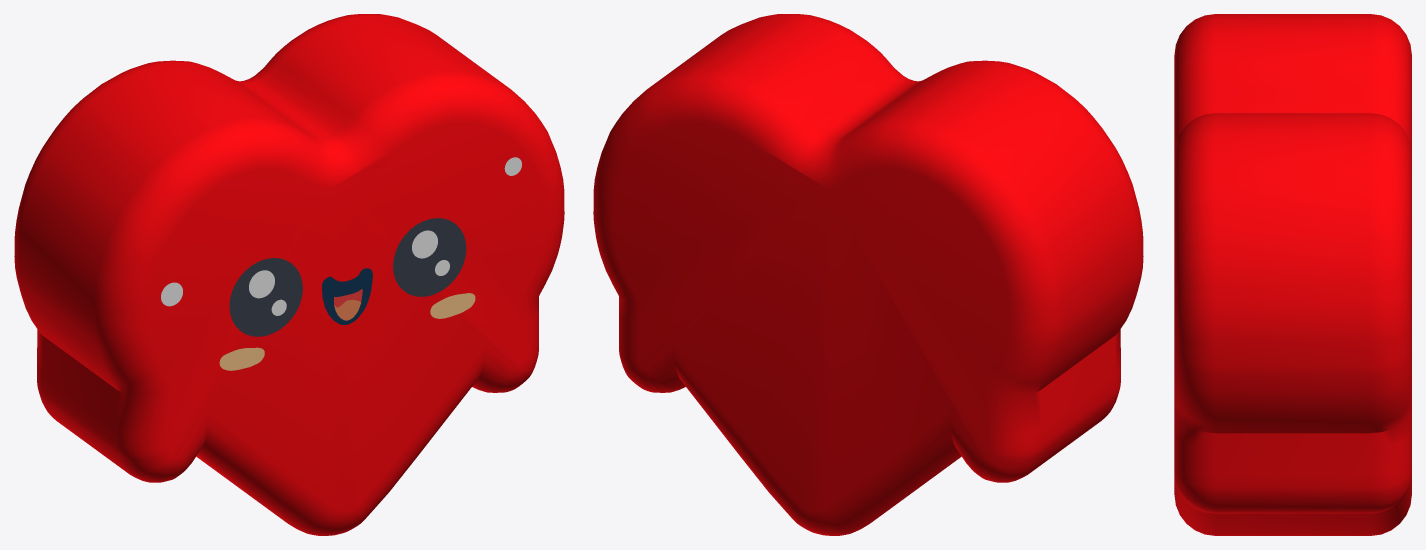
File: Corazon.fbx
3 views of the same model, side by side, from view 1: azimuth 30°, elevation 25°; view 2: azimuth 150°, elevation 25°; view 3: azimuth 270°, elevation 25° (orthographic). The views are drawn at different scales.
Visible parts, largest first — view 1: Circle.001; view 2: Circle.001; view 3: Circle.001.
Boxes of the visible parts, <box> form: Circle.001: <box>14,14,564,535</box>; Circle.001: <box>593,14,1143,535</box>; Circle.001: <box>1174,14,1411,535</box>.
Size of the model in its own units: 303 by 271 by 130.
